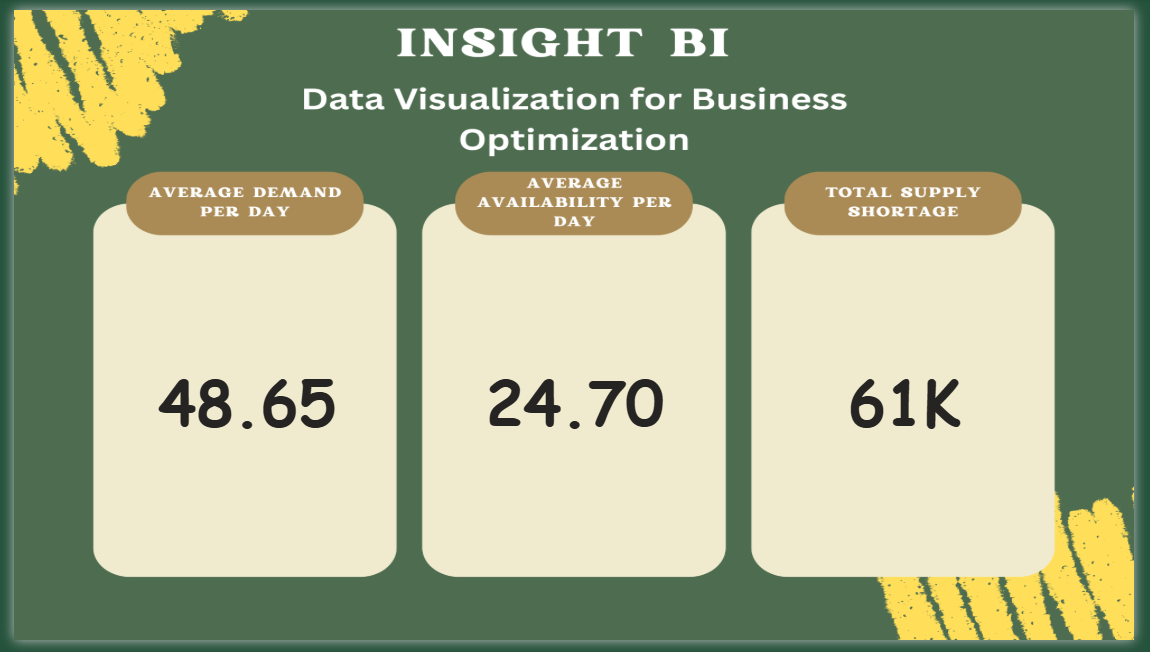

What the dashboard file says about the page in this screenshot:
{"tool":"powerbi","page":{"name":"Page 1","canvas":[1280,720],"ordinal":0},"visuals":[{"type":"card","fields":{"Values":["Measure_Table.Average_Demand_Per_Day"]},"box":[127.3,303.9,279.2,280.5],"z":0},{"type":"card","fields":{"Values":["Measure_Table.Avergae_Availability Per Day"]},"box":[501.3,303.9,279.2,280.5],"z":1000},{"type":"card","fields":{"Values":["Measure_Table.Total Supply Shortage"]},"box":[879.2,303.9,279.2,280.5],"z":2000}]}

Visuals, with their boxes in screenshot pixels (x1, y1, x2, y2), scaled from the page's 1280x720 canvas onto the 1150x652 screenshot:
card - Measure_Table.Average_Demand_Per_Day: x1=114, y1=275, x2=365, y2=529
card - Measure_Table.Avergae_Availability Per Day: x1=450, y1=275, x2=701, y2=529
card - Measure_Table.Total Supply Shortage: x1=790, y1=275, x2=1041, y2=529
